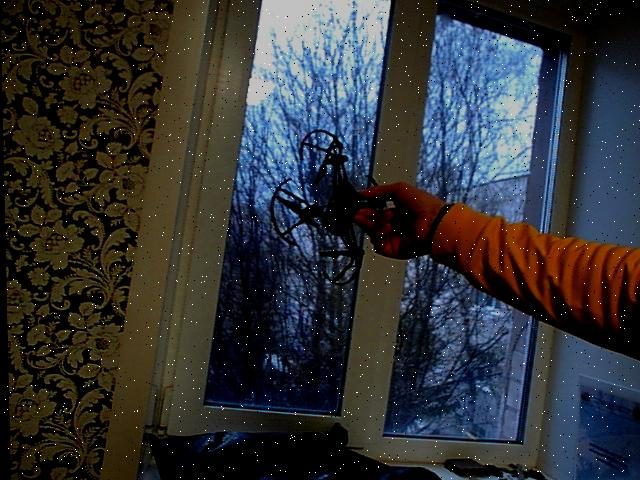drone: (263, 119, 407, 290)
